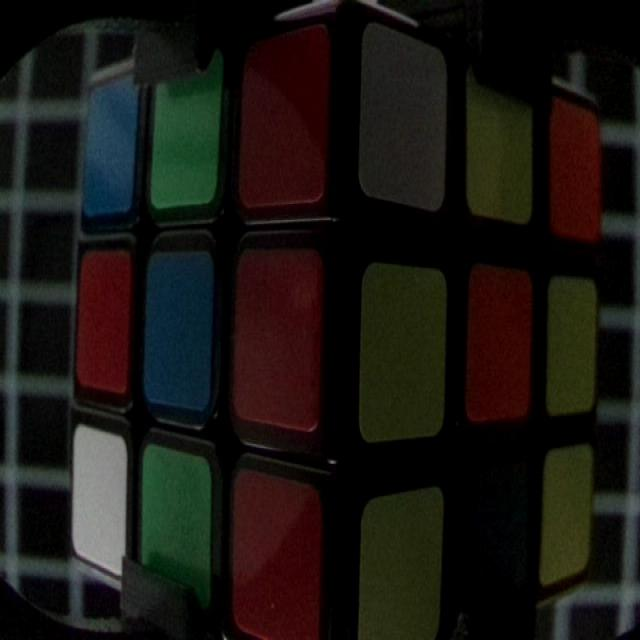b: (147, 253, 207, 399), (468, 484, 529, 610), (88, 82, 137, 214)
g: (144, 448, 212, 606), (154, 62, 218, 198)
o: (466, 267, 532, 416), (552, 96, 599, 242)
r: (235, 244, 320, 431), (233, 473, 318, 640), (244, 40, 324, 196), (81, 252, 128, 389)
w: (362, 28, 446, 205), (75, 422, 124, 572)
y: (362, 269, 448, 437), (357, 496, 441, 640), (463, 64, 533, 220), (549, 273, 594, 415), (544, 444, 592, 574)
